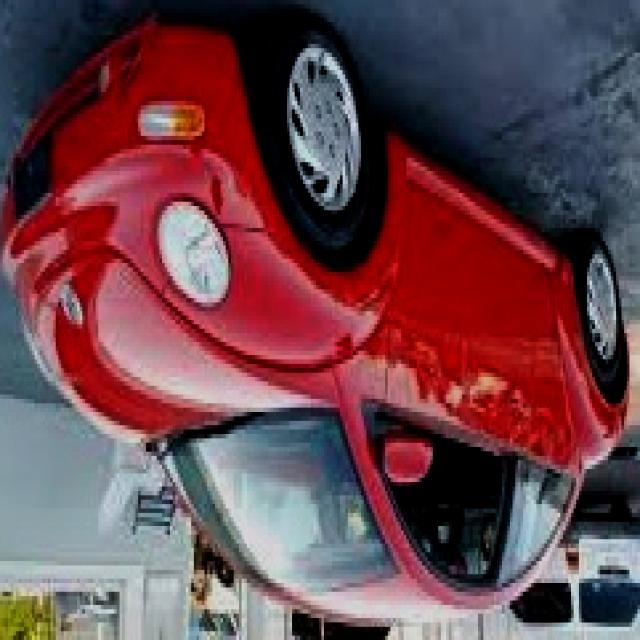red: (5, 20, 640, 631)
